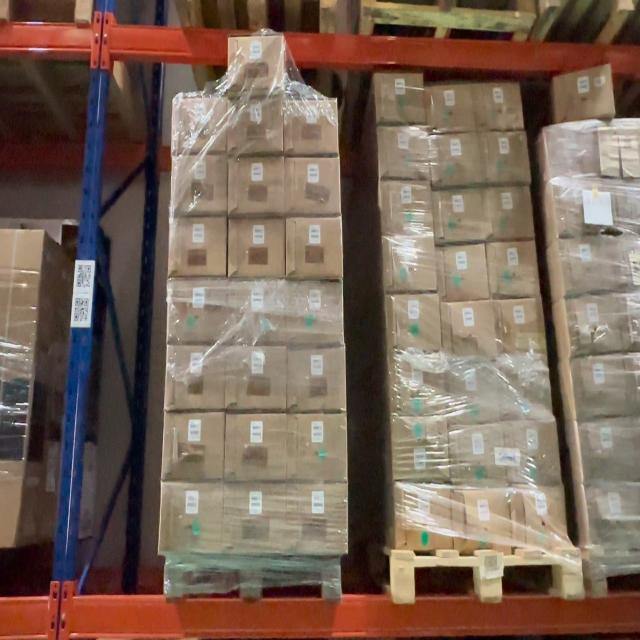box: (161, 482, 222, 552), (285, 485, 346, 554), (223, 483, 284, 551), (287, 416, 347, 482), (165, 412, 224, 479), (226, 414, 284, 481), (167, 345, 225, 411), (167, 278, 226, 342), (288, 347, 344, 411), (225, 348, 284, 407), (554, 64, 614, 122), (286, 216, 342, 278), (454, 488, 508, 552), (285, 280, 339, 342), (229, 280, 283, 342), (170, 156, 227, 213), (398, 486, 450, 548), (170, 217, 226, 274), (394, 416, 445, 478), (229, 219, 284, 276), (507, 420, 555, 485), (584, 418, 631, 484), (228, 157, 281, 214), (388, 296, 440, 354), (452, 424, 502, 484), (512, 488, 562, 548), (501, 355, 547, 420), (172, 97, 226, 152), (227, 96, 280, 152), (286, 158, 338, 215), (446, 302, 493, 364), (284, 99, 336, 154), (578, 353, 622, 418), (393, 355, 442, 413), (230, 38, 282, 92), (386, 235, 434, 292), (448, 364, 496, 421), (435, 187, 482, 244), (377, 128, 427, 180), (489, 241, 536, 296), (572, 294, 614, 354), (496, 301, 542, 354), (440, 245, 485, 299), (381, 182, 429, 232), (566, 237, 608, 294), (484, 187, 528, 240), (434, 135, 478, 187), (427, 83, 473, 132), (377, 73, 421, 123), (480, 134, 524, 184), (544, 132, 599, 172), (560, 180, 600, 235), (478, 84, 521, 130)
